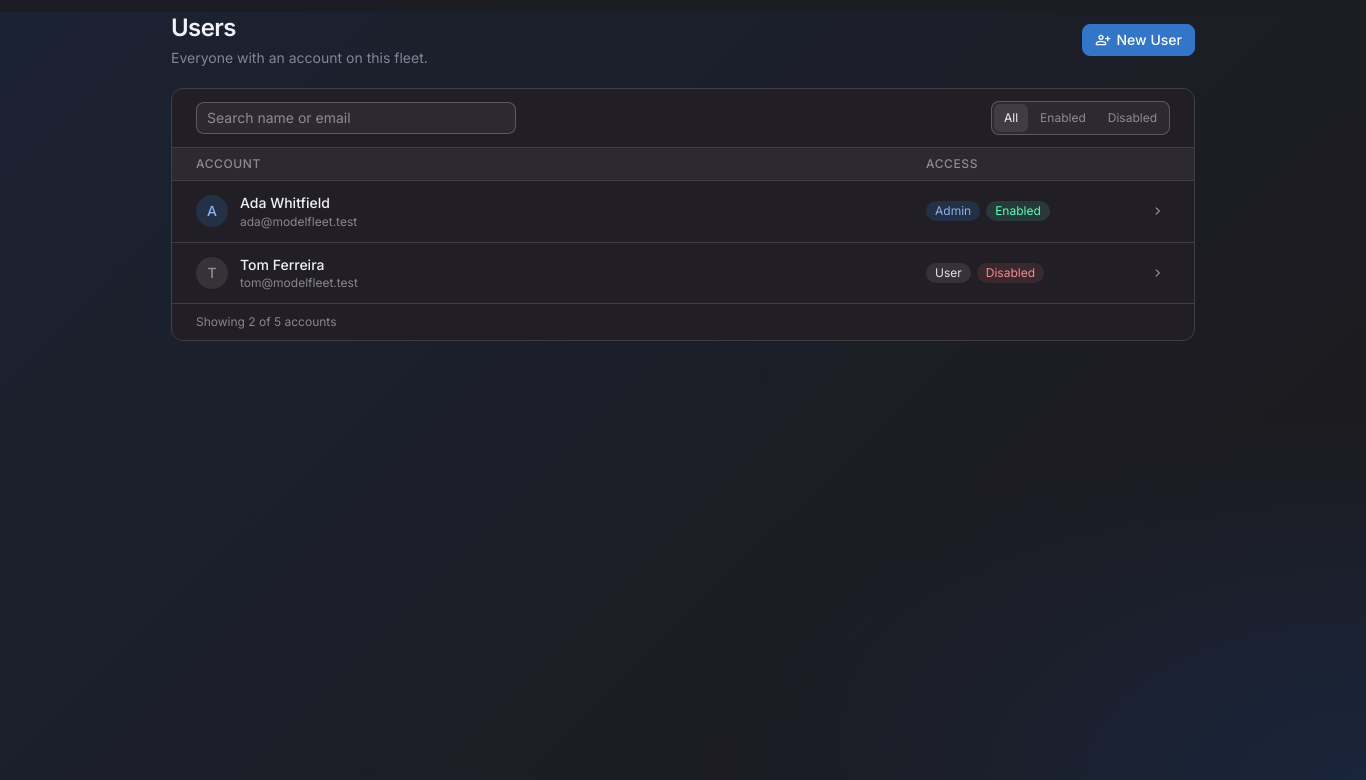
Users page › says when a search matches no account
Type "nobody" into the field with placeholder "Search name or email" at (356, 118), box 207,103 -> 505,133
Wait 400 ms
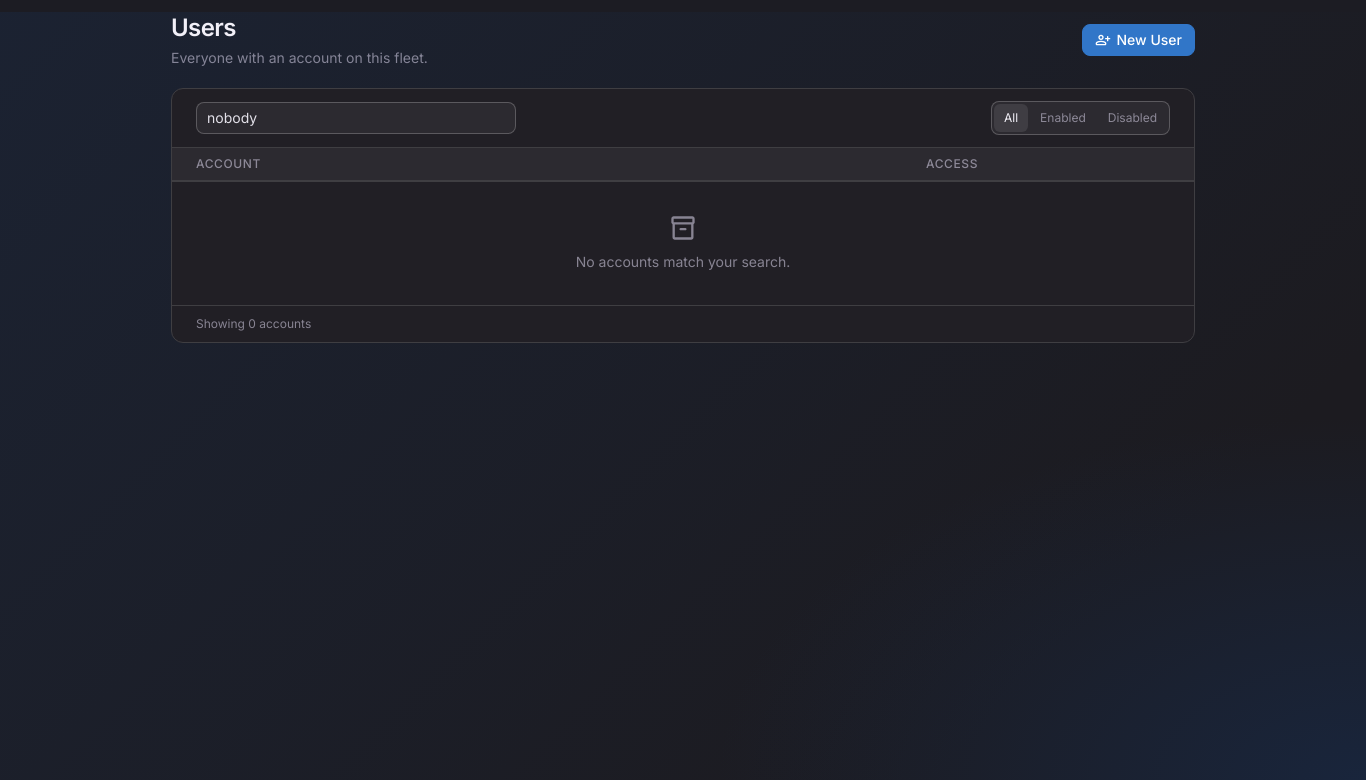
Expected: the element with test id "table-empty" reads "No accounts match your search.", 576,253 -> 790,270
